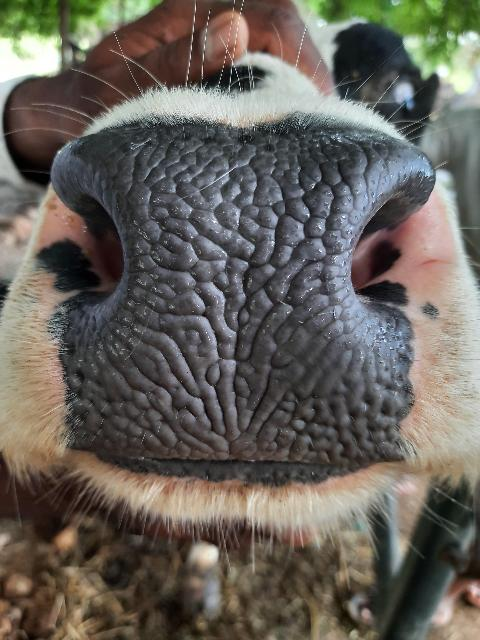Muzzle: (94, 132, 372, 468)
